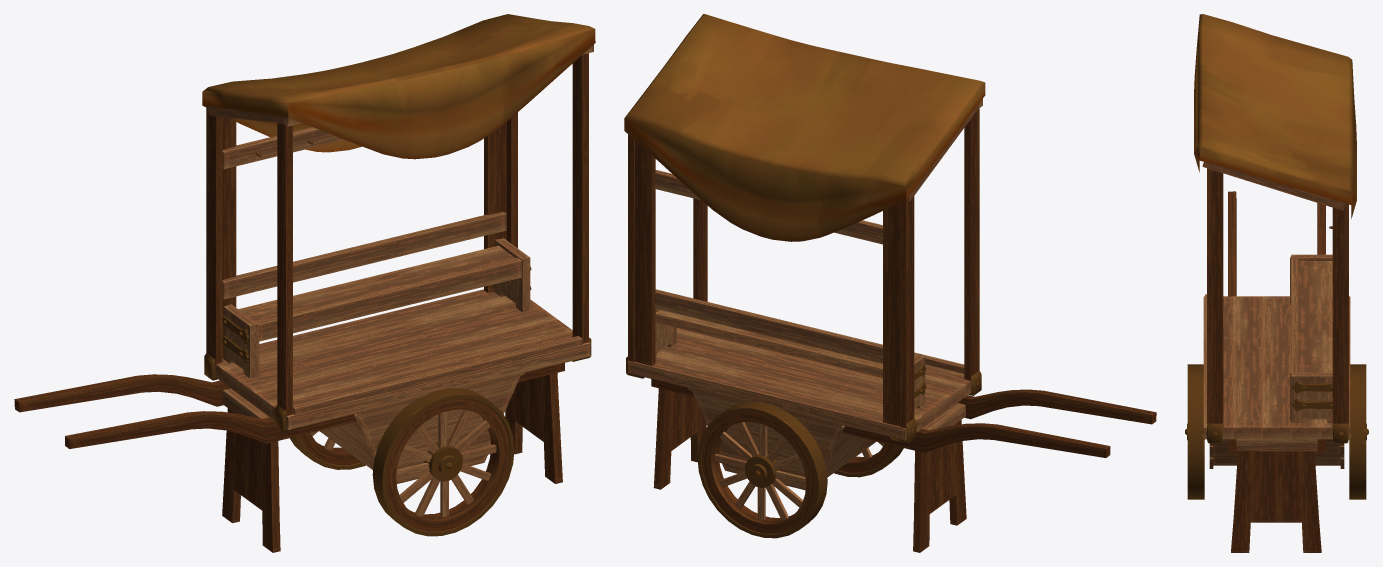
File: prop_handcart.glb
3 renders of one model, left to right at view 1: azimuth 30°, elevation 25°; view 2: azimuth 150°, elevation 25°; view 3: azimuth 270°, elevation 25°, orthographic. The views are drawn at different scales.
Parts seen in each view (by area): view 1: Stall_Cart_Empty; view 2: Stall_Cart_Empty; view 3: Stall_Cart_Empty.
Part boxes in pixels (box(x1,y1,x2,y2)): Stall_Cart_Empty: box(14, 14, 595, 552); Stall_Cart_Empty: box(624, 14, 1156, 552); Stall_Cart_Empty: box(1185, 14, 1368, 552).
Size of the model in its own units: 3.02 by 2.63 by 1.06.
3 materials, 3 textured.
